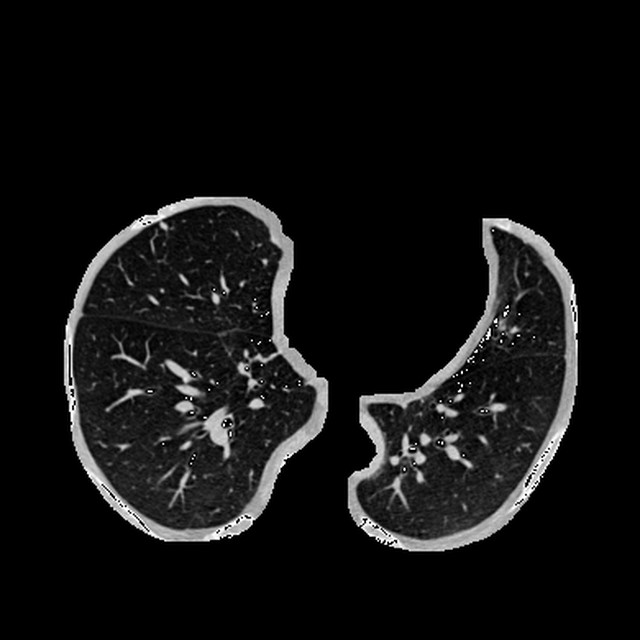PN: (159, 222, 166, 228)
